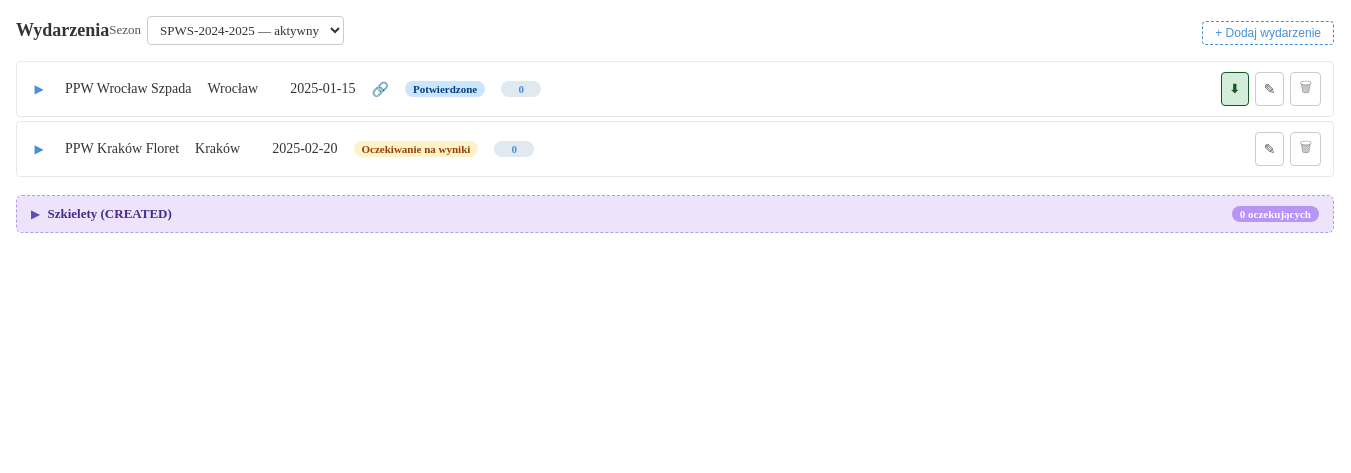
Test case: EventManager (T9.3) › opens create form when add button clicked
Click the button "+ Dodaj wydarzenie" at [1268, 33], box top-left (1202, 21), bottom-right (1334, 45)
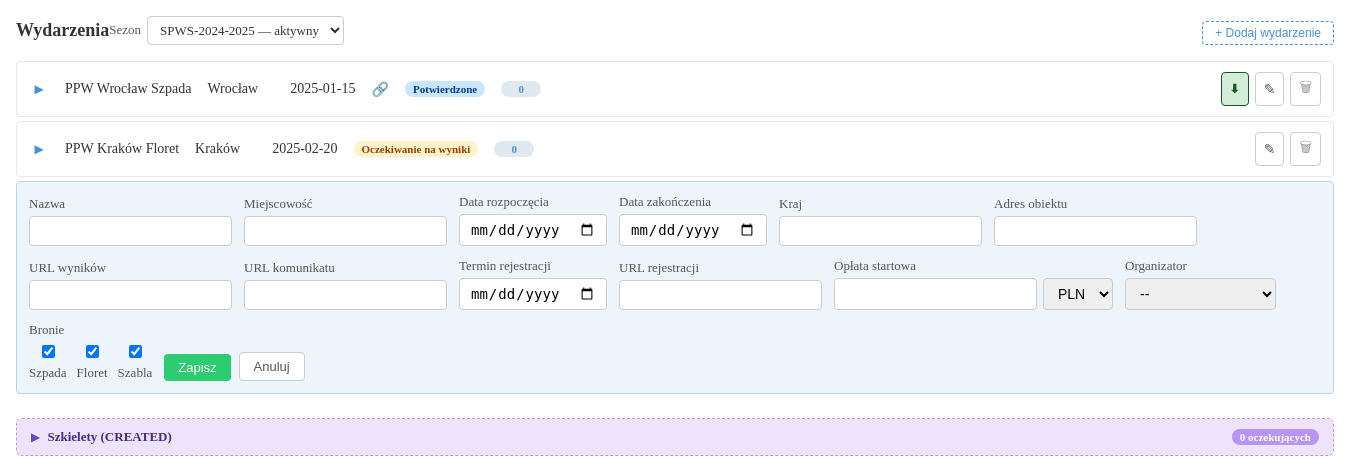
Expected: the element that starts with "Nazwa" is shown, top-left (16, 181), bottom-right (1334, 394)
Expected: the field labelled "Nazwa" is empty, top-left (29, 216), bottom-right (232, 246)
